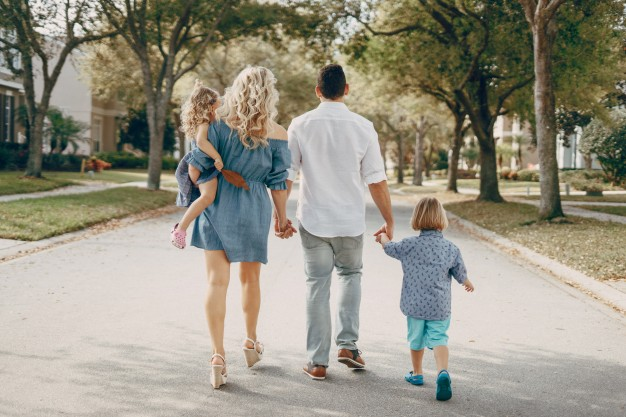Person: (162, 57, 305, 401), (278, 51, 401, 383), (382, 196, 478, 406), (172, 79, 228, 256)
